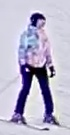skier: (0, 13, 70, 130)
